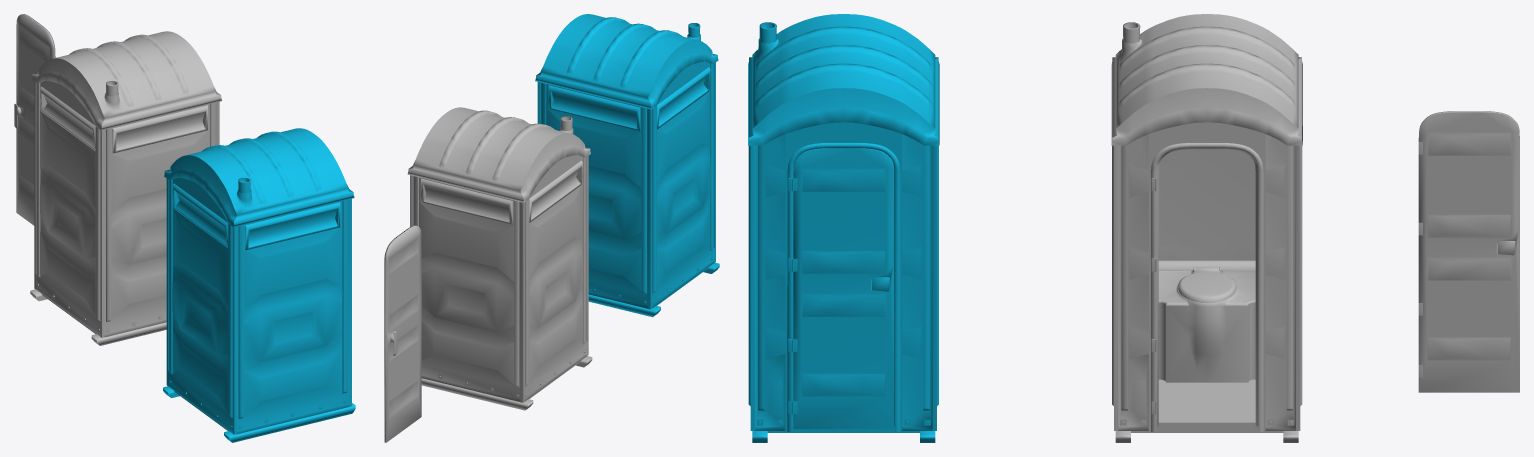
The model's file is SM_Portapotty_01a.fbx.
The picture shows the model from 3 angles, left to right: view 1: azimuth 30°, elevation 25°; view 2: azimuth 150°, elevation 25°; view 3: azimuth 270°, elevation 25°; orthographic projection. The views are drawn at different scales.
Parts seen in each view (by area): view 1: low_triangulated, pasted__Portapotty_02, pasted__low_triangulated; view 2: pasted__Portapotty_02, low_triangulated, pasted__low_triangulated; view 3: low_triangulated, pasted__Portapotty_02, pasted__low_triangulated.
Part boxes in pixels (x1,y1,x2,y2): low_triangulated: (163, 128, 355, 442); pasted__Portapotty_02: (30, 31, 221, 345); pasted__low_triangulated: (14, 14, 55, 225); pasted__Portapotty_02: (407, 107, 592, 410); low_triangulated: (535, 14, 719, 317); pasted__low_triangulated: (384, 225, 421, 442); low_triangulated: (748, 14, 939, 442); pasted__Portapotty_02: (1111, 14, 1302, 442); pasted__low_triangulated: (1418, 111, 1519, 392).
Bounding box in the file's own units: 120 × 235 × 462.
